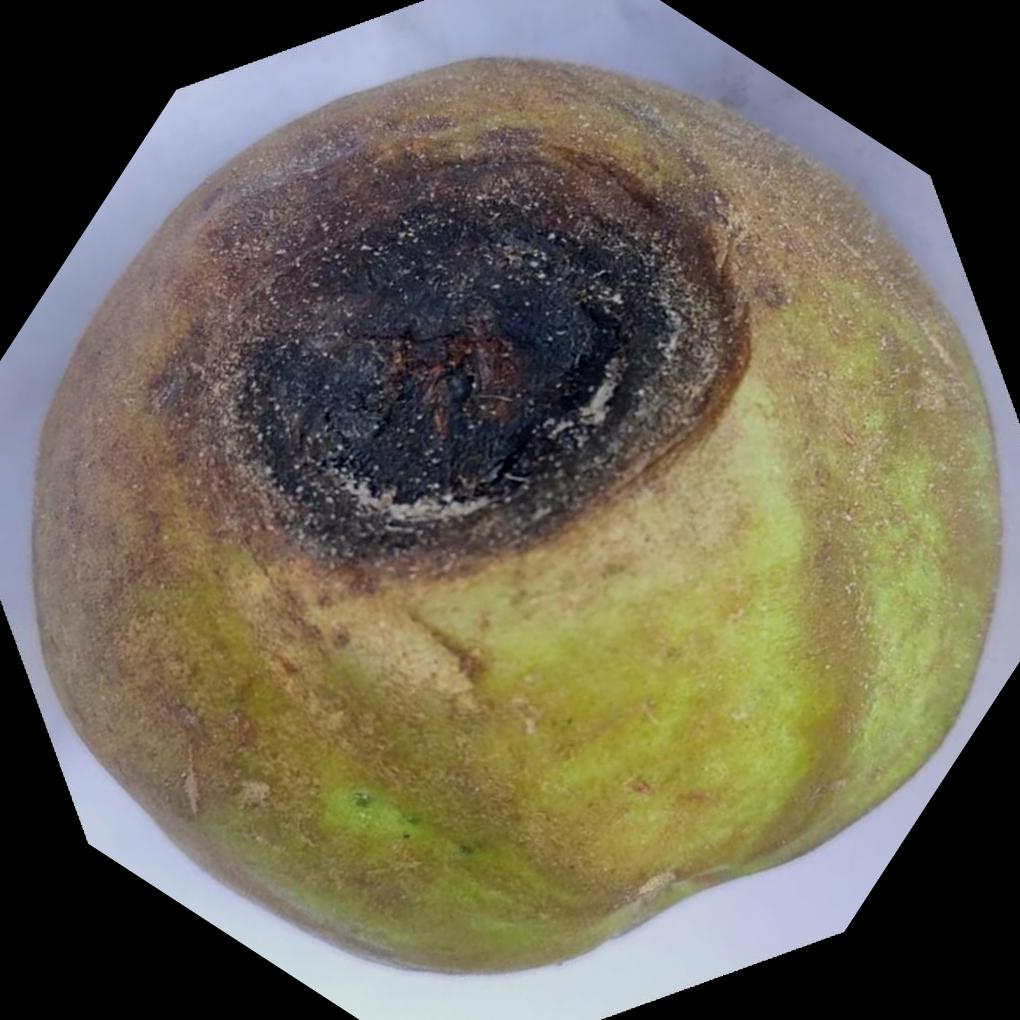FreshOrange: (30, 50, 1009, 974)
